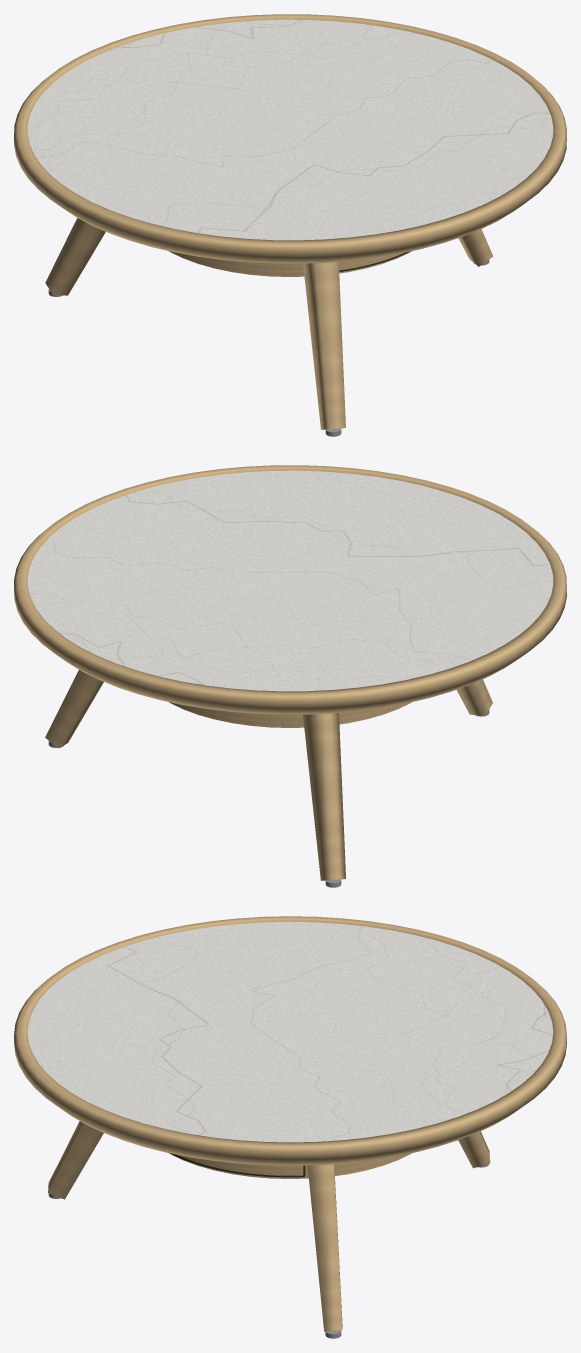
The model's file is ownAshBig.glb.
3 renders of one model, top to bottom at view 1: azimuth 30°, elevation 25°; view 2: azimuth 150°, elevation 25°; view 3: azimuth 270°, elevation 25°, orthographic.
Size of the model in its own units: 0.9 by 0.3612 by 0.9.
5 materials, 3 textured.
